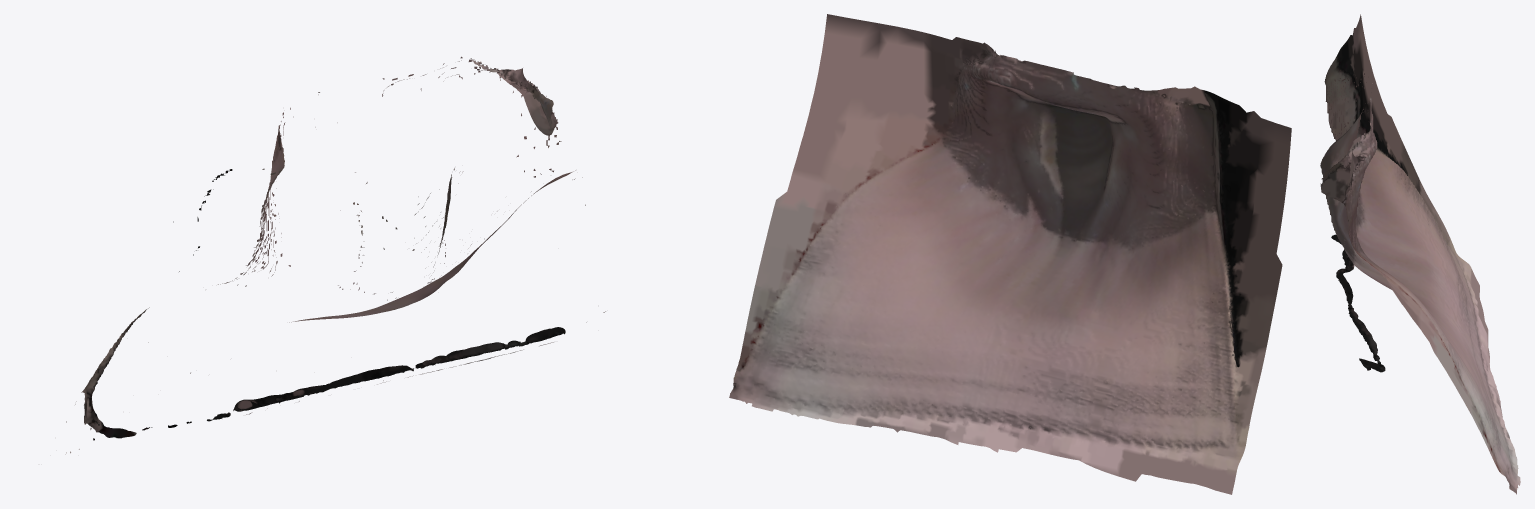
3 views of the same model, side by side, from view 1: azimuth 30°, elevation 25°; view 2: azimuth 150°, elevation 25°; view 3: azimuth 270°, elevation 25° (orthographic). The views are drawn at different scales.
Size of the model in its own units: 0.00141 by 0.000921 by 0.00058.
